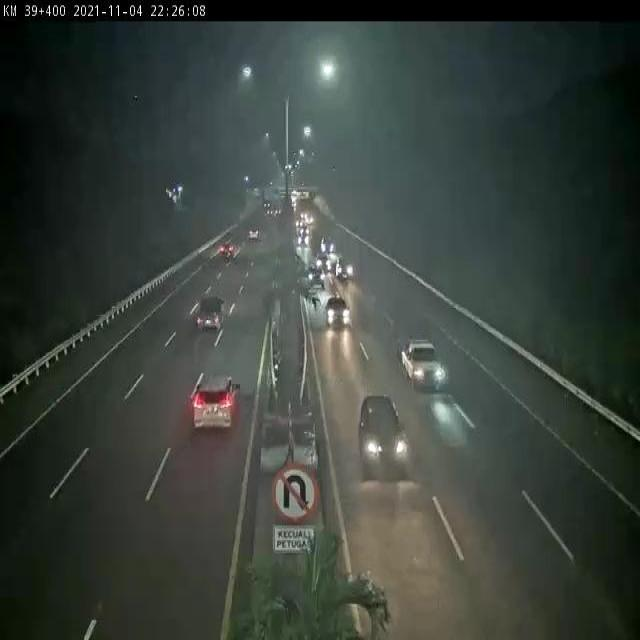car: (339, 385, 426, 504), (167, 364, 254, 472), (390, 333, 450, 383), (318, 294, 358, 334), (213, 232, 234, 265)
truck-s-: (176, 284, 228, 361)
